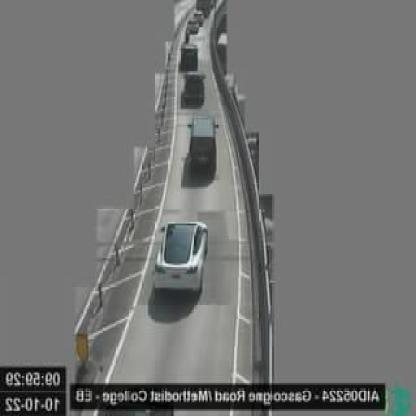Car: (154, 219, 208, 298), (178, 74, 206, 109), (185, 21, 199, 35), (193, 8, 204, 23)
Truck: (188, 113, 216, 174), (181, 44, 199, 72)
